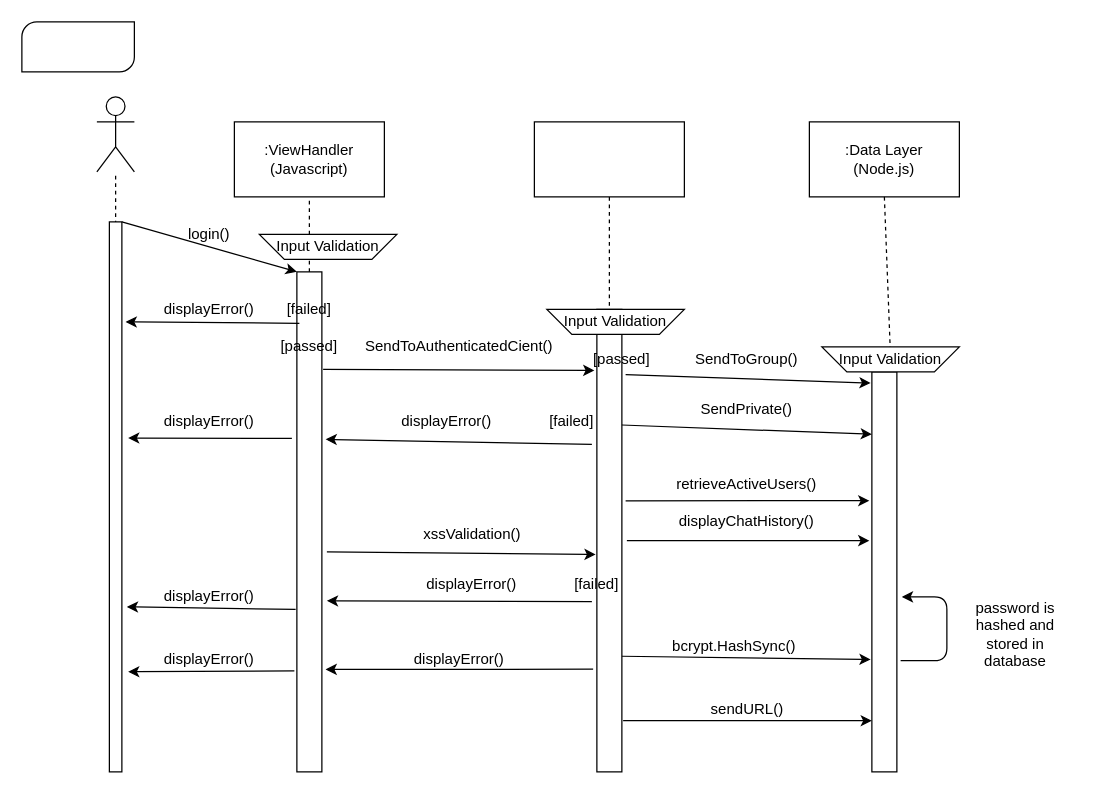
The diagram is 1094 pixels wide and 794 high, and some of its shapes have lost their labels. Each missing label, with the centre of its shape:
"(HTML)" belongs at point (115, 134).
"<<client>> :SocketIOConnection" belongs at point (608, 159).
"System Sequence" belongs at point (77, 46).
